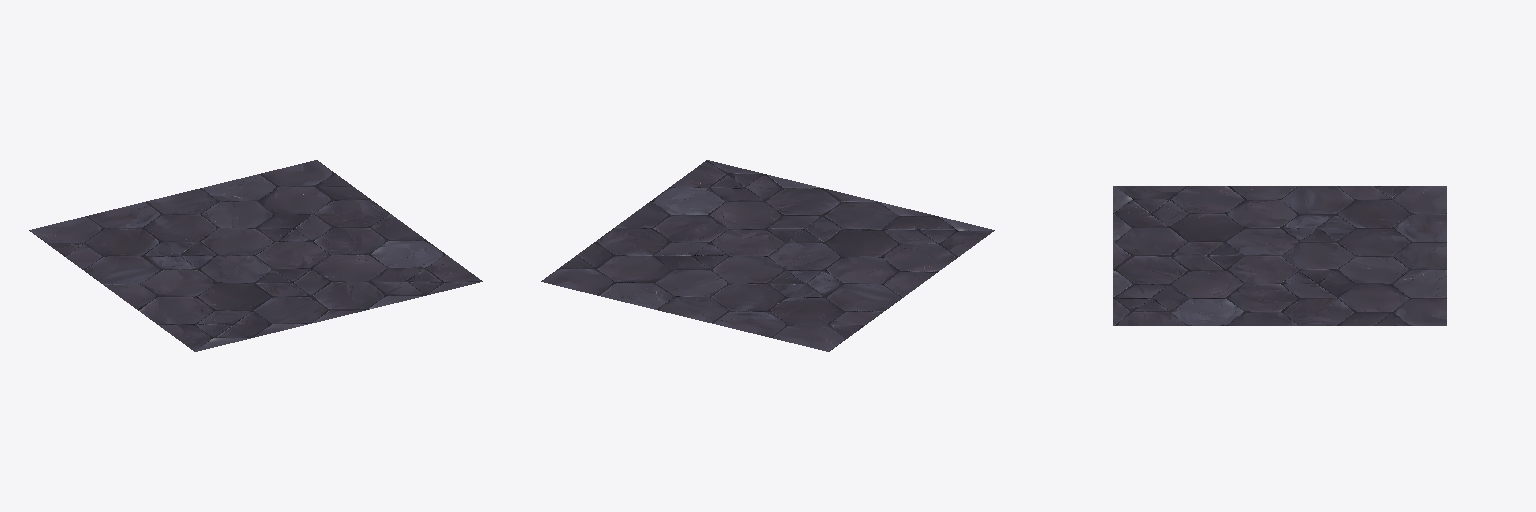
The picture shows the model from 3 angles: view 1: azimuth 30°, elevation 25°; view 2: azimuth 150°, elevation 25°; view 3: azimuth 270°, elevation 25°; orthographic projection.
Parts seen in each view (by area): view 1: Plane; view 2: Plane; view 3: Plane.
Part boxes in pixels (x1,y1,x2,y2): Plane: (29,160,482,351); Plane: (541,160,994,351); Plane: (1113,186,1446,325).
Size of the model in its own units: 200 by 0 by 200.
1 materials, 1 textured.